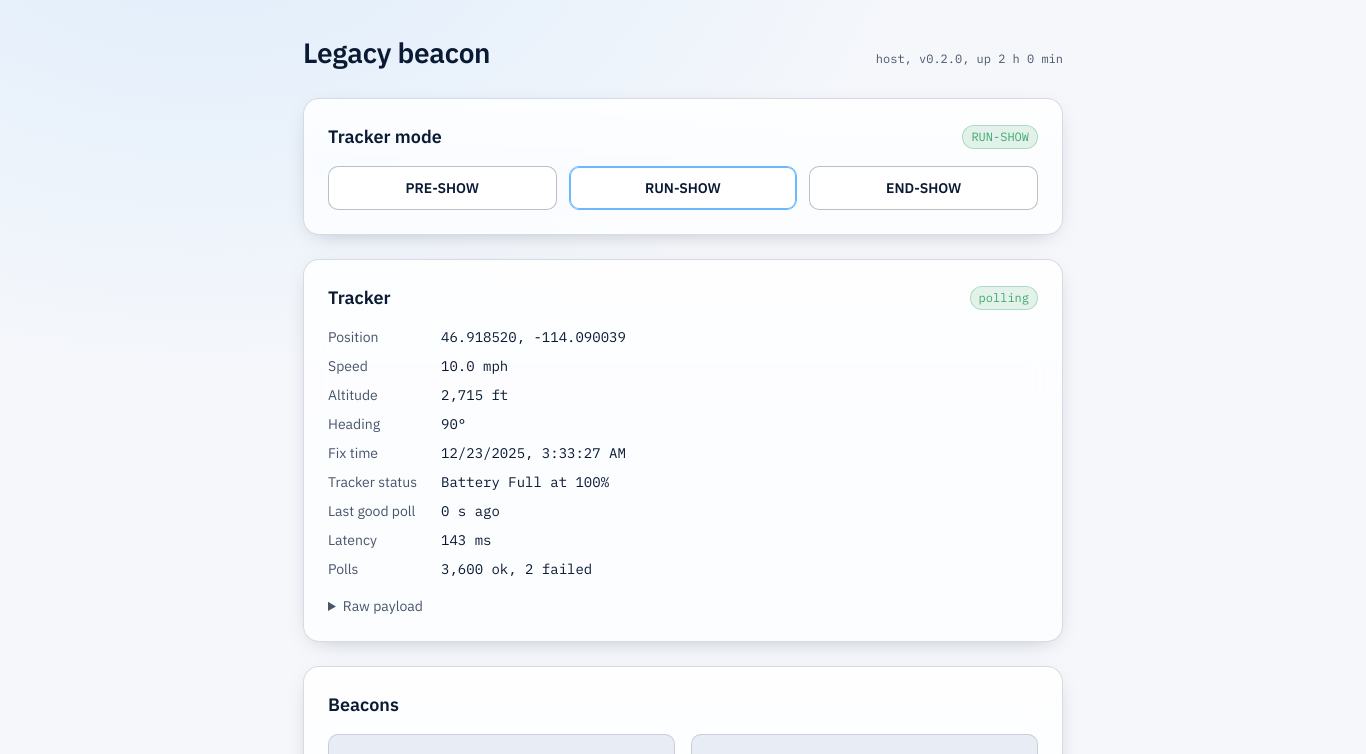
Test case: App (legacy-beacon.md 4) › a refused mode request shows the API's message
Expected: the text "RUN-SHOW" is shown, [962, 124, 1038, 148]
Step 1. Click the button "RUN-SHOW" → (683, 188), box [569, 166, 797, 210]
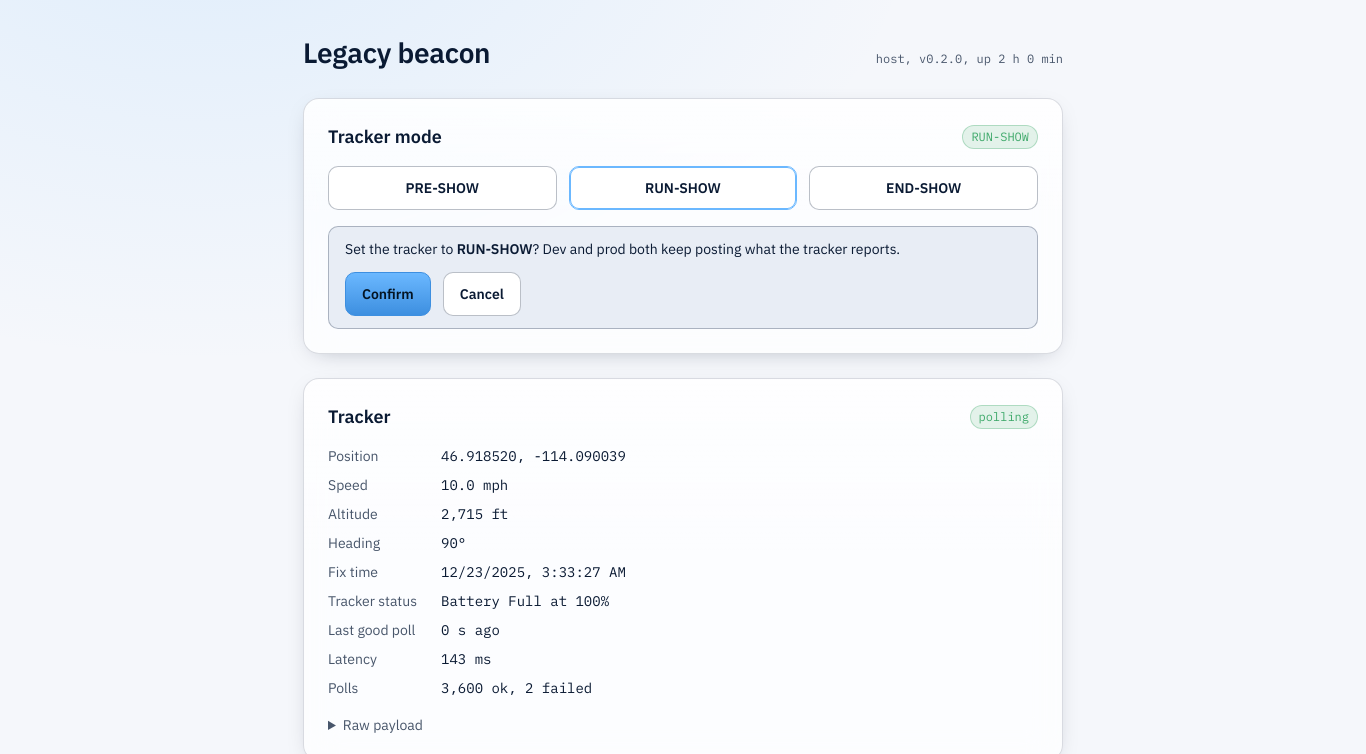
Step 2. Click the button "Confirm" → (388, 294), box [345, 272, 431, 316]
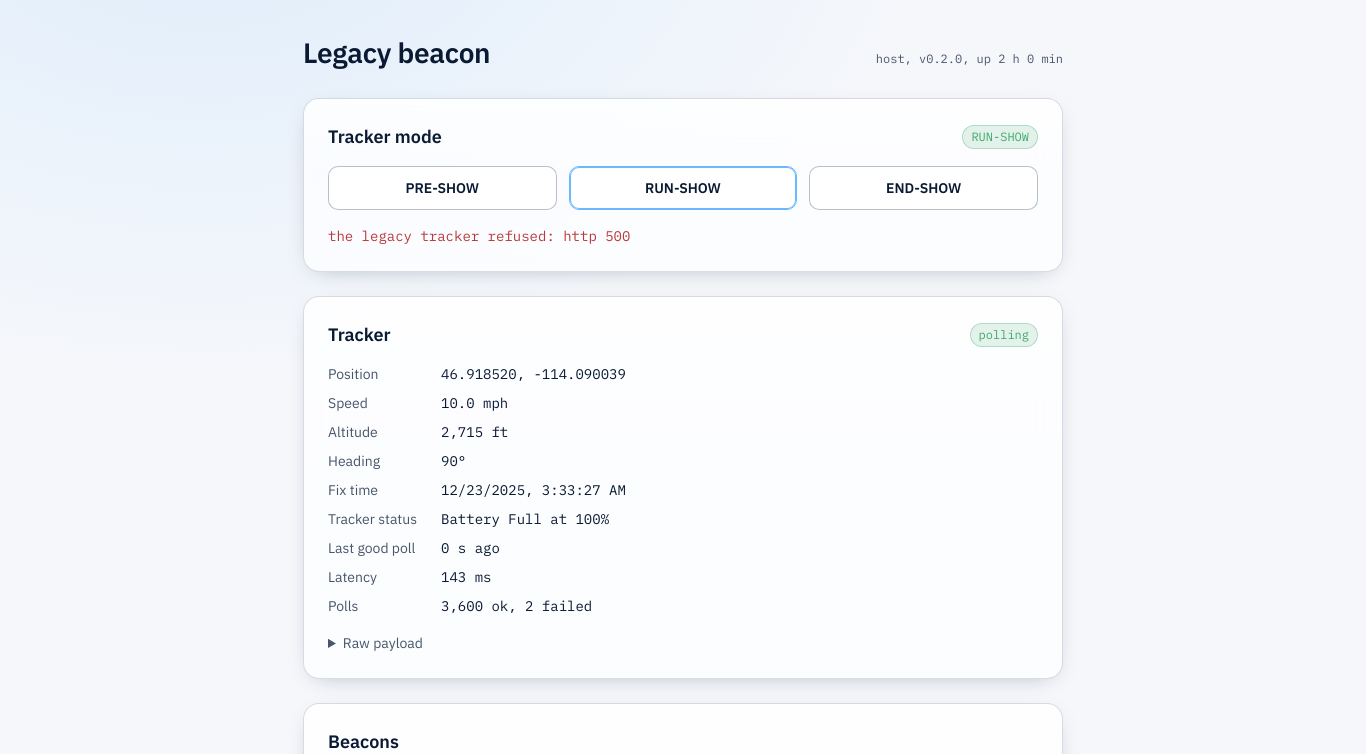
Expected: the text "the legacy tracker refused: http 500" is shown, [328, 227, 630, 245]
